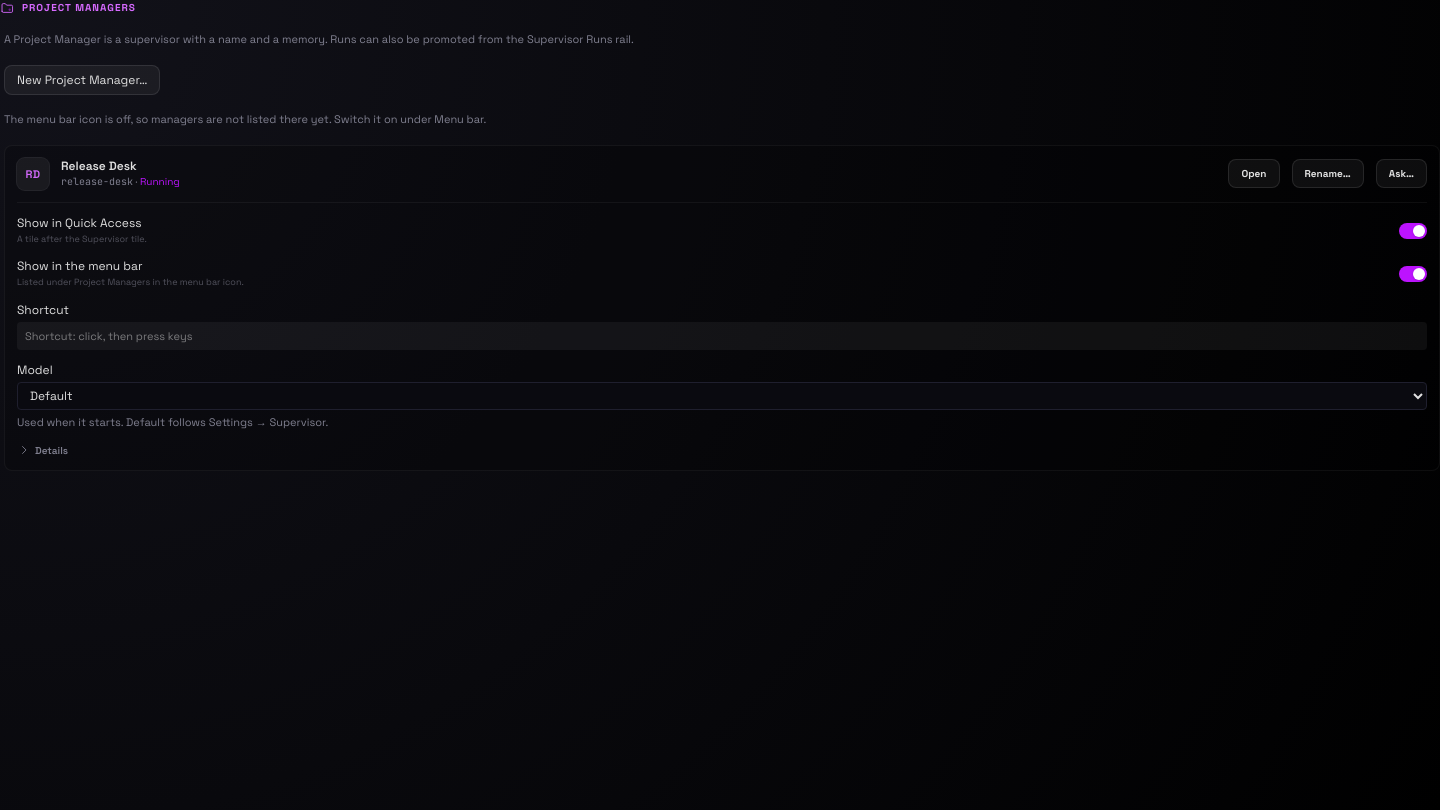
Settings → Supervisor → Project Managers › the working loop › tells the sheet a running manager gets a message
What coordinates should you click on to do the following:
click the button with aria-label "Ask Release Desk…"
I would click on:
 (1401, 174)
Its box is [1376, 159, 1427, 188].
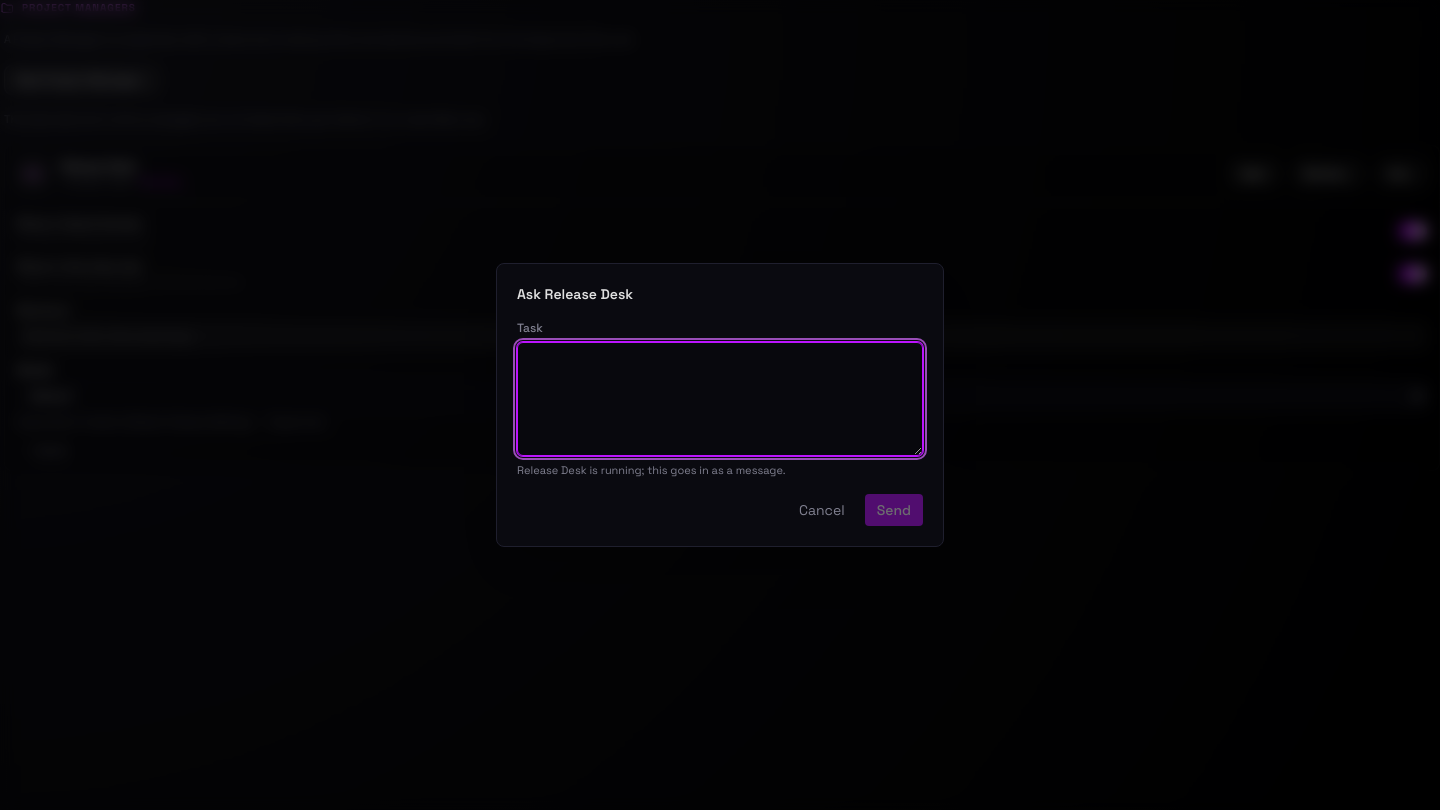
Expected: the text "Release Desk is running; this goes in as a message." is shown, [517, 463, 786, 477]
